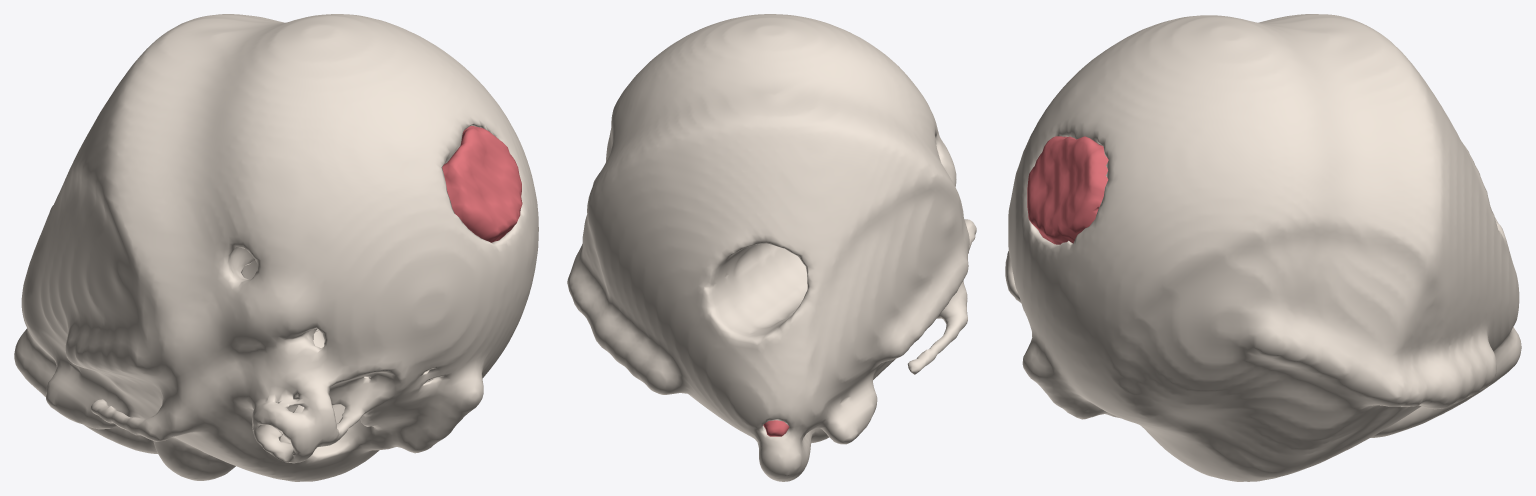
File: case_08.glb
3 views of the same model, side by side, from view 1: azimuth 30°, elevation 25°; view 2: azimuth 150°, elevation 25°; view 3: azimuth 270°, elevation 25° (orthographic). The views are drawn at different scales.
Parts seen in each view (by area): view 1: heart, pool; view 2: heart; view 3: heart, pool.
Boxes of the visible parts, bbox=[...] form: heart: bbox=[14, 14, 538, 481]; pool: bbox=[442, 126, 522, 242]; heart: bbox=[567, 14, 976, 481]; heart: bbox=[1005, 14, 1521, 481]; pool: bbox=[1027, 136, 1108, 244].
Size of the model in its own units: 126 by 133 by 138.
